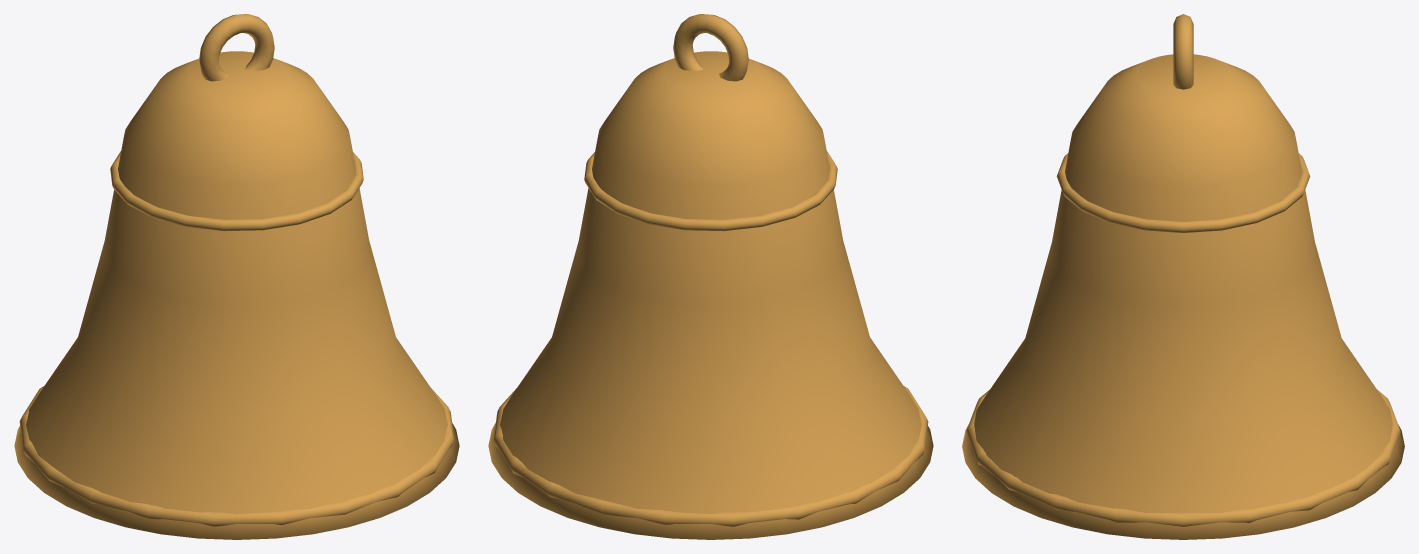
File: glocke_neu.glb
The picture shows the model from 3 angles, left to right: view 1: azimuth 30°, elevation 25°; view 2: azimuth 150°, elevation 25°; view 3: azimuth 270°, elevation 25°; orthographic projection.
Visible parts, largest first — view 1: d; view 2: d; view 3: d.
Boxes of the visible parts, x1,y1,x2,y2 form: d: (14, 14, 459, 539); d: (488, 14, 933, 539); d: (962, 14, 1404, 539).
Size of the model in its own units: 1.1 by 1.19 by 1.1.
